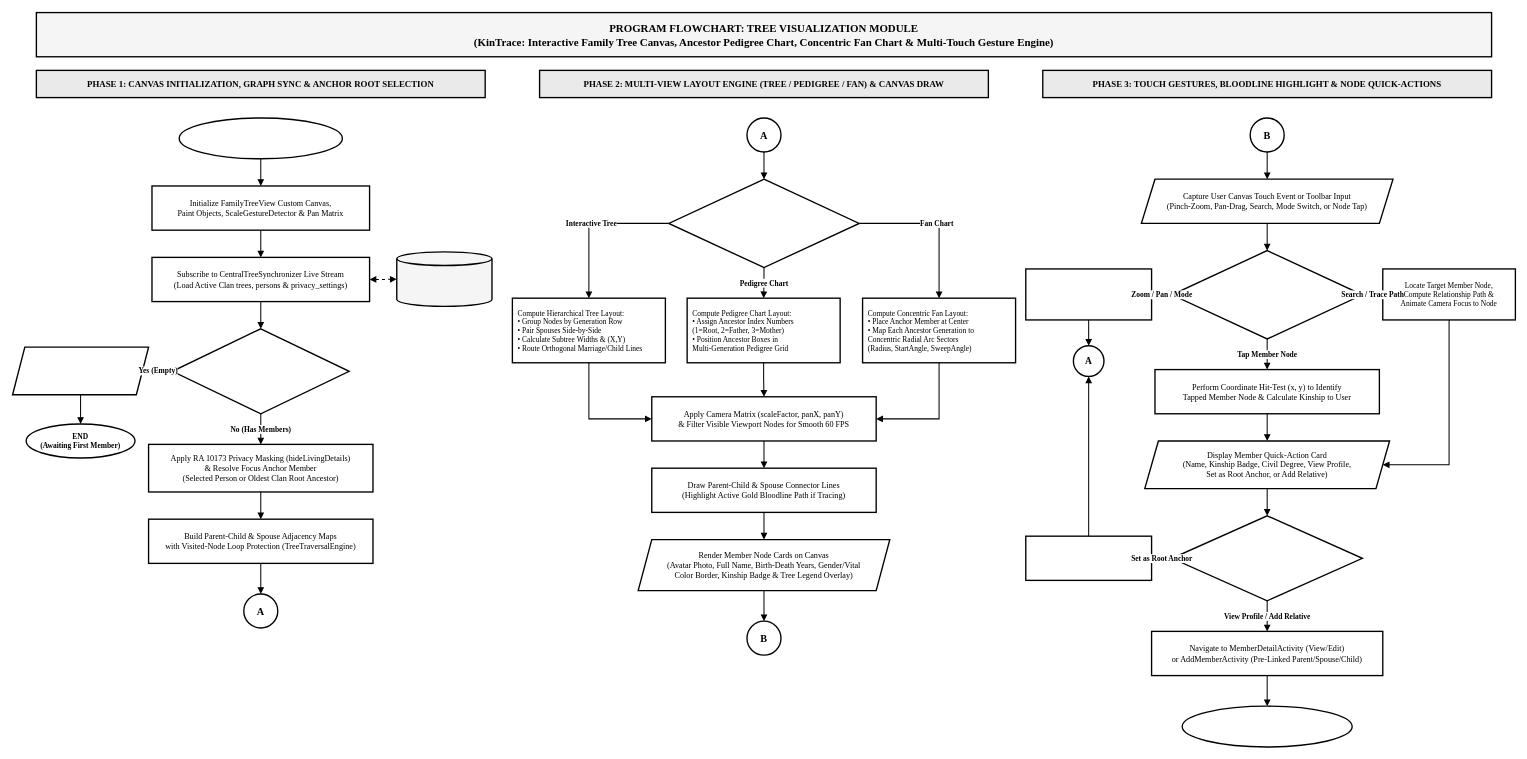
Image size: 1527x759. Some labels were removed from this diagram. The centre of each missing label's shape, as x and y in pixels:
Cloud Firestore (persons & trees Live Snapshot): point (444, 279)
END (Tree Visualization Session Complete): point (1267, 726)
Is Clan Member Graph Empty (persons.isEmpty())?: point (260, 371)
Render Empty Tree Canvas CTA: "Tap + to Add First Root Ancestor to Clan Tree": point (80, 370)
Set Tapped Member as New Focus Root & Re-Layout Tree: point (1088, 558)
START (Open Interactive Tree Visualization): point (260, 138)
Update Camera Zoom (0.3x–3.0x), Pan Offset, or View Mode & Request Canvas Redraw: point (1088, 294)
What Canvas Interaction Was Triggered?: point (1267, 294)
Which Node Quick-Action Was Selected?: point (1267, 558)
Which Tree Visualization Mode is Selected?: point (764, 223)
